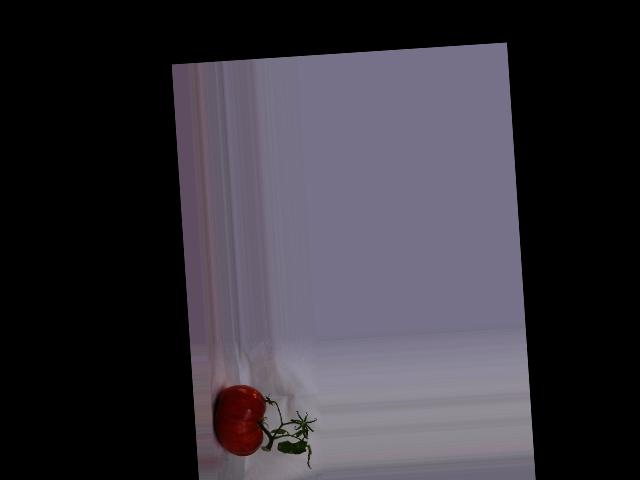tomato: (211, 383, 268, 458)
